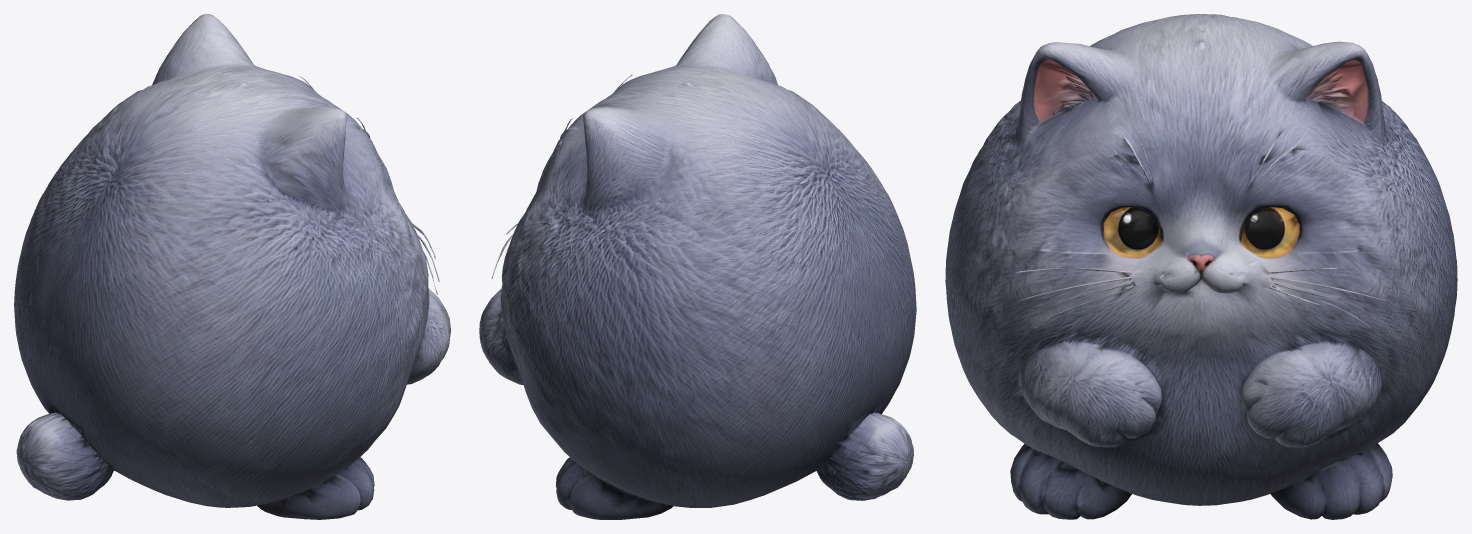
Rendered from CAT_L08.glb.
The picture shows the model from 3 angles, left to right: view 1: azimuth 30°, elevation 25°; view 2: azimuth 150°, elevation 25°; view 3: azimuth 270°, elevation 25°; orthographic projection. The views are drawn at different scales.
Parts seen in each view (by area): view 1: tripo_node_3bf0c66b-6ae5-416c-8343-a53243b2338f; view 2: tripo_node_3bf0c66b-6ae5-416c-8343-a53243b2338f; view 3: tripo_node_3bf0c66b-6ae5-416c-8343-a53243b2338f.
Part boxes in pixels (x1,y1,x2,y2): tripo_node_3bf0c66b-6ae5-416c-8343-a53243b2338f: (14, 14, 450, 519); tripo_node_3bf0c66b-6ae5-416c-8343-a53243b2338f: (479, 14, 916, 519); tripo_node_3bf0c66b-6ae5-416c-8343-a53243b2338f: (945, 14, 1457, 519).
Bounding box in the file's own units: 0.9631 × 0.9685 × 0.9788.
1 material, 1 textured.
